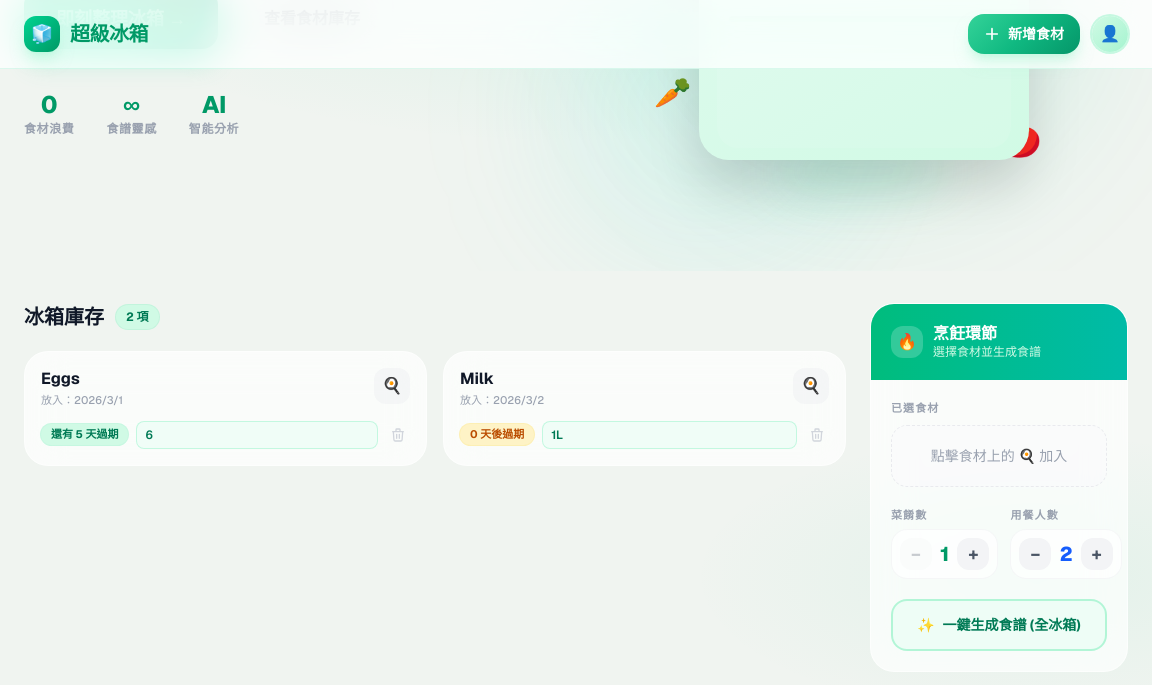
Test: Super Refrigerator - Core Features › 7. Recipe Generation: 1-Click Feature
(page scrolled)
Click the text "一鍵生成食譜 (全冰箱)". click: [1012, 625]
box: [943,615,1081,635]
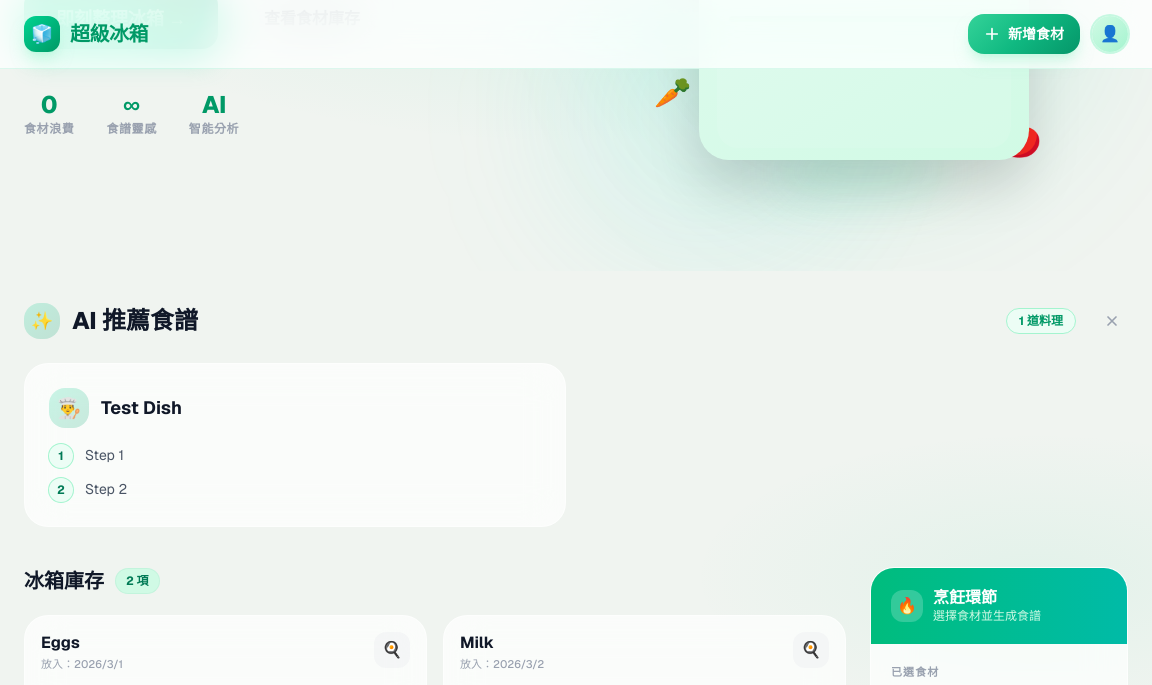
Result: the heading "Test Dish" is shown at [101,394,182,422]
